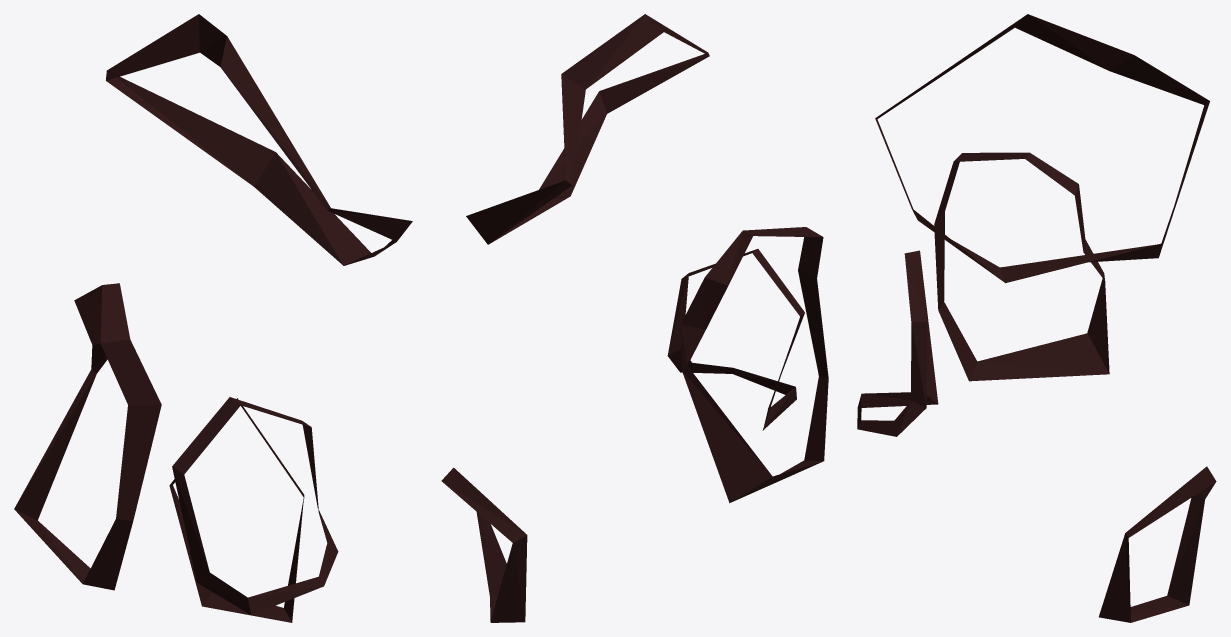
File: Stone_Yellow_A_02_Light_01.FBX
3 views of the same model, side by side, from view 1: azimuth 30°, elevation 25°; view 2: azimuth 150°, elevation 25°; view 3: azimuth 270°, elevation 25° (orthographic). The views are drawn at different scales.
Visible parts, largest first — view 1: Stone_Yellow_A_02_Light_01; view 2: Stone_Yellow_A_02_Light_01; view 3: Stone_Yellow_A_02_Light_01.
Part boxes in pixels (x1,y1,x2,y2): Stone_Yellow_A_02_Light_01: (14, 14, 412, 622); Stone_Yellow_A_02_Light_01: (441, 14, 828, 622); Stone_Yellow_A_02_Light_01: (857, 14, 1216, 622).
Bounding box in the file's own units: 1.99 × 3.9 × 2.27.
